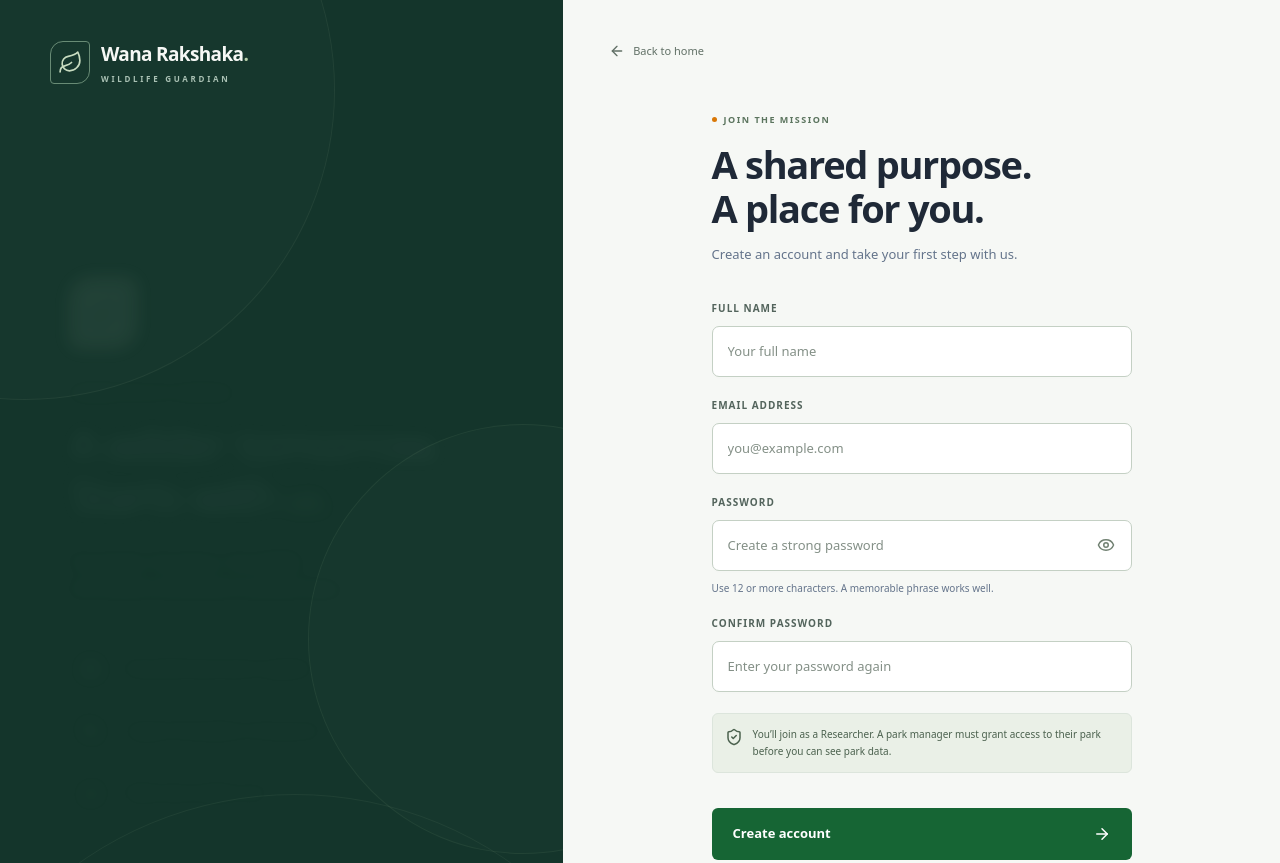
Test case: account screens › prevents mismatched registration passwords from reaching the API
Expected: the button "Create account" is enabled, [712, 808, 1132, 860]
Type "long-password-one" into the password field labelled "PASSWORD". click: (922, 545)
box: [712, 520, 1132, 570]
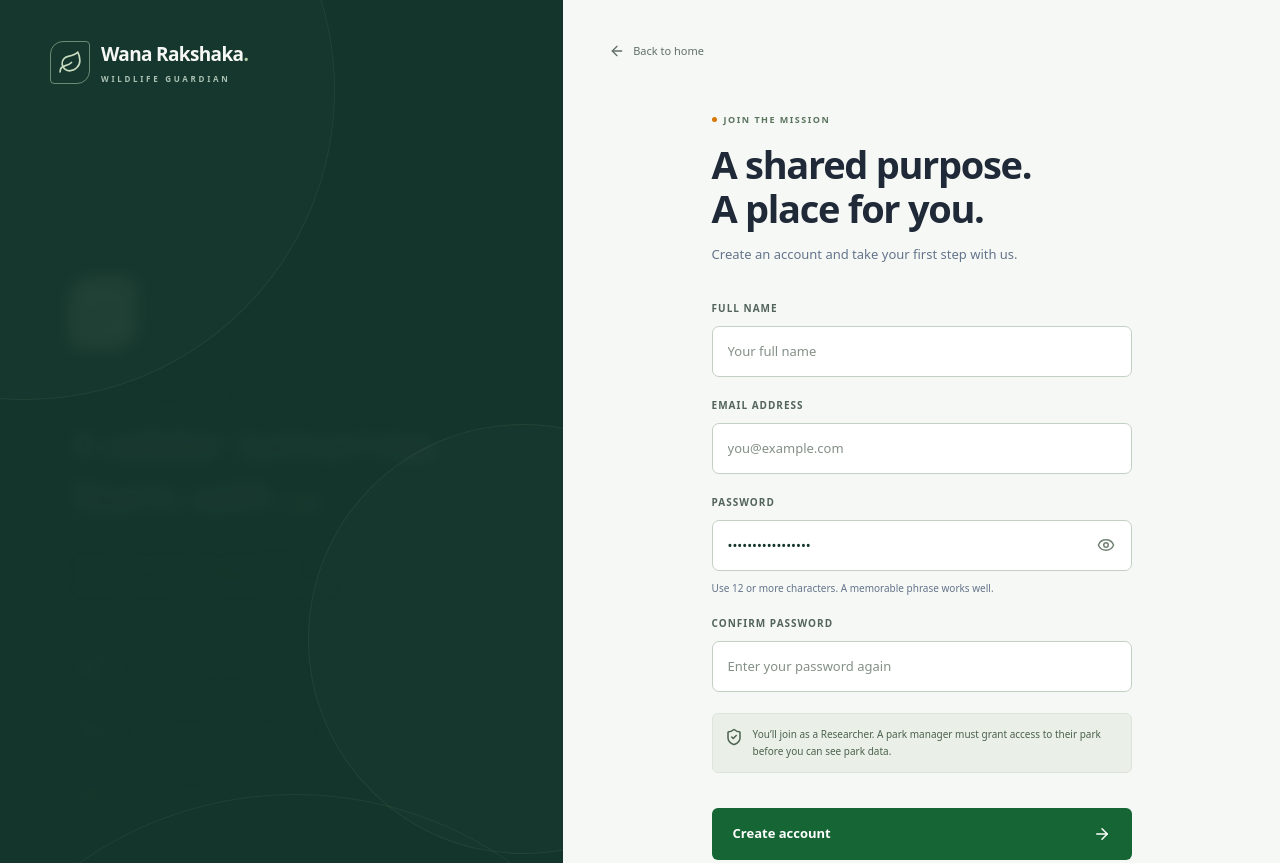
Type "long-password-two" into the password field labelled "CONFIRM PASSWORD". click: (922, 666)
box: [712, 640, 1132, 692]
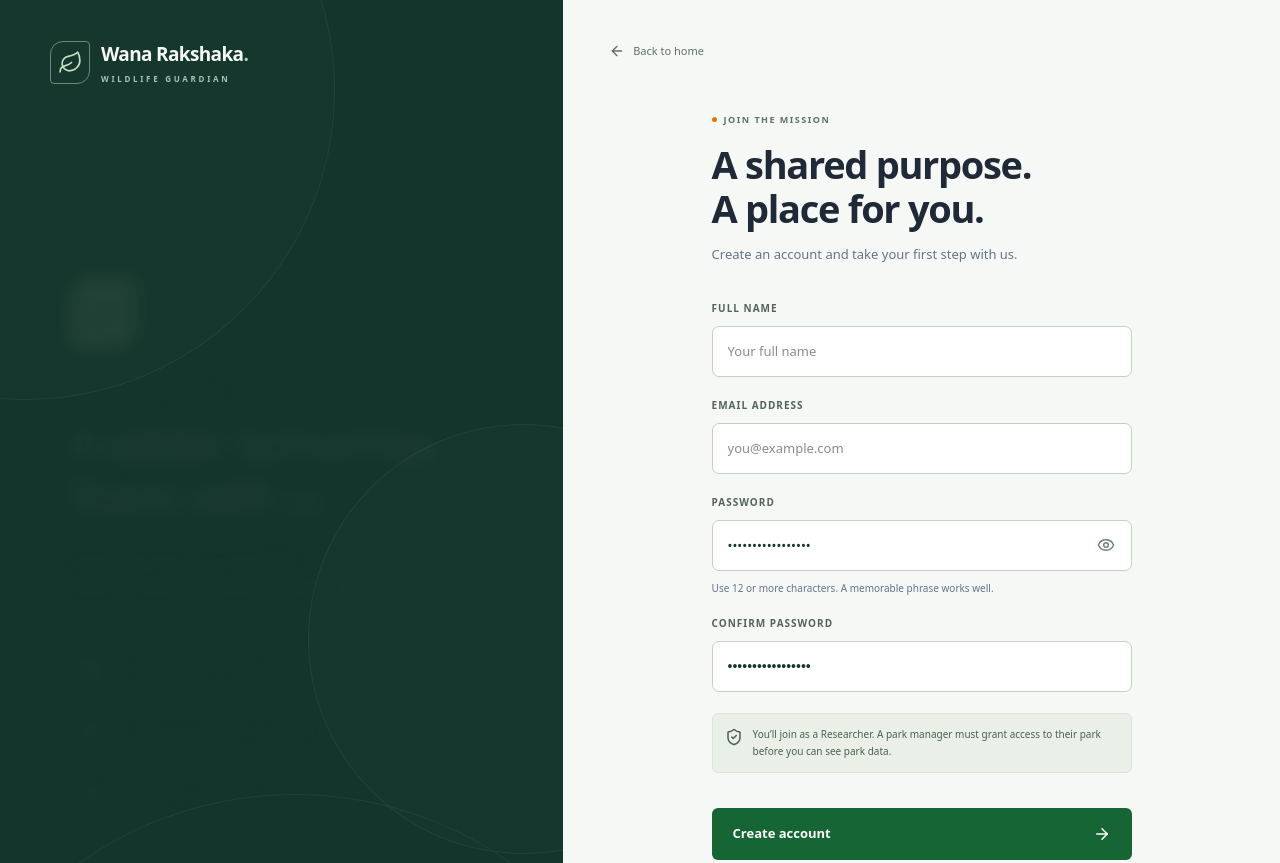
Submit the form named "Create account", box [712, 300, 1132, 860]
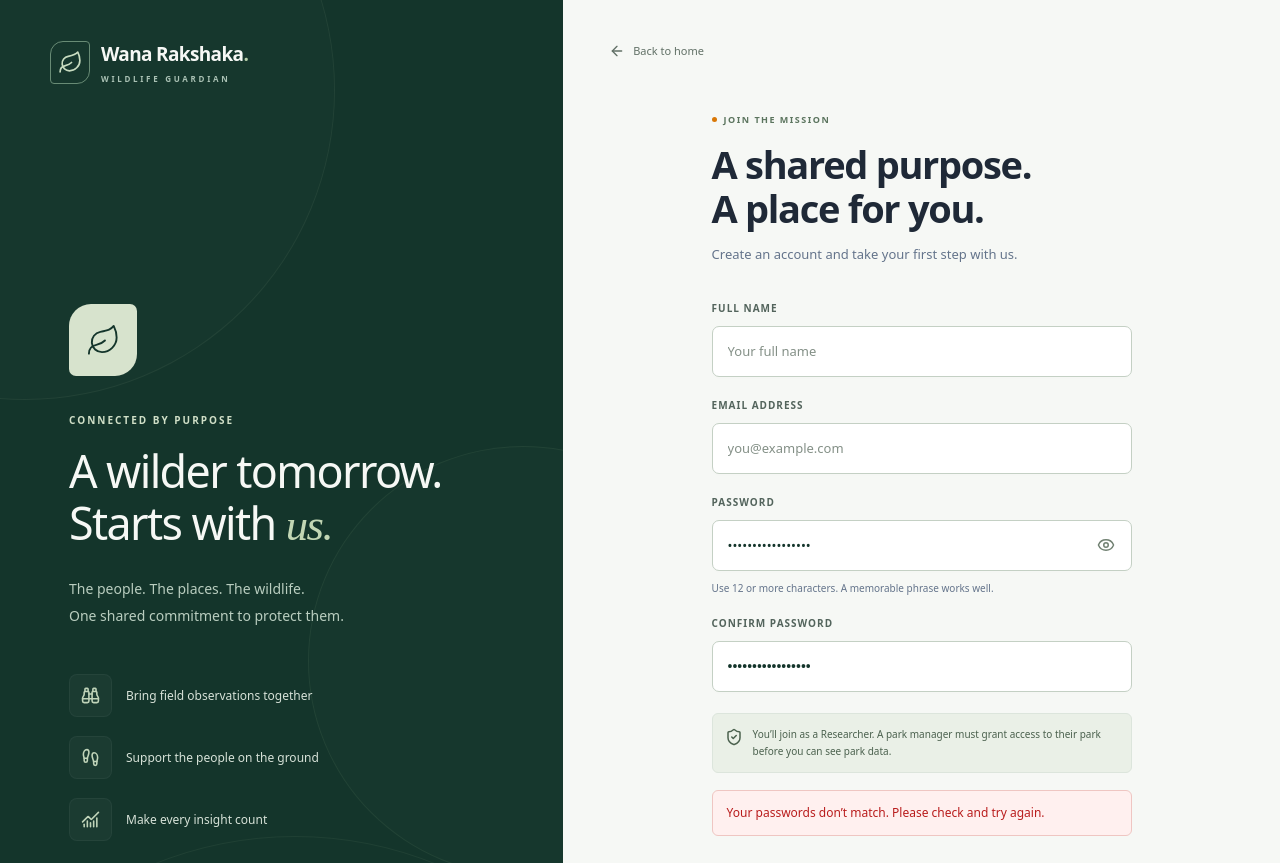
Expected: the text "You’ll join as a Researcher" is shown, [753, 726, 1101, 758]
Result: the message shows "don’t match" at [727, 804, 1045, 820]
